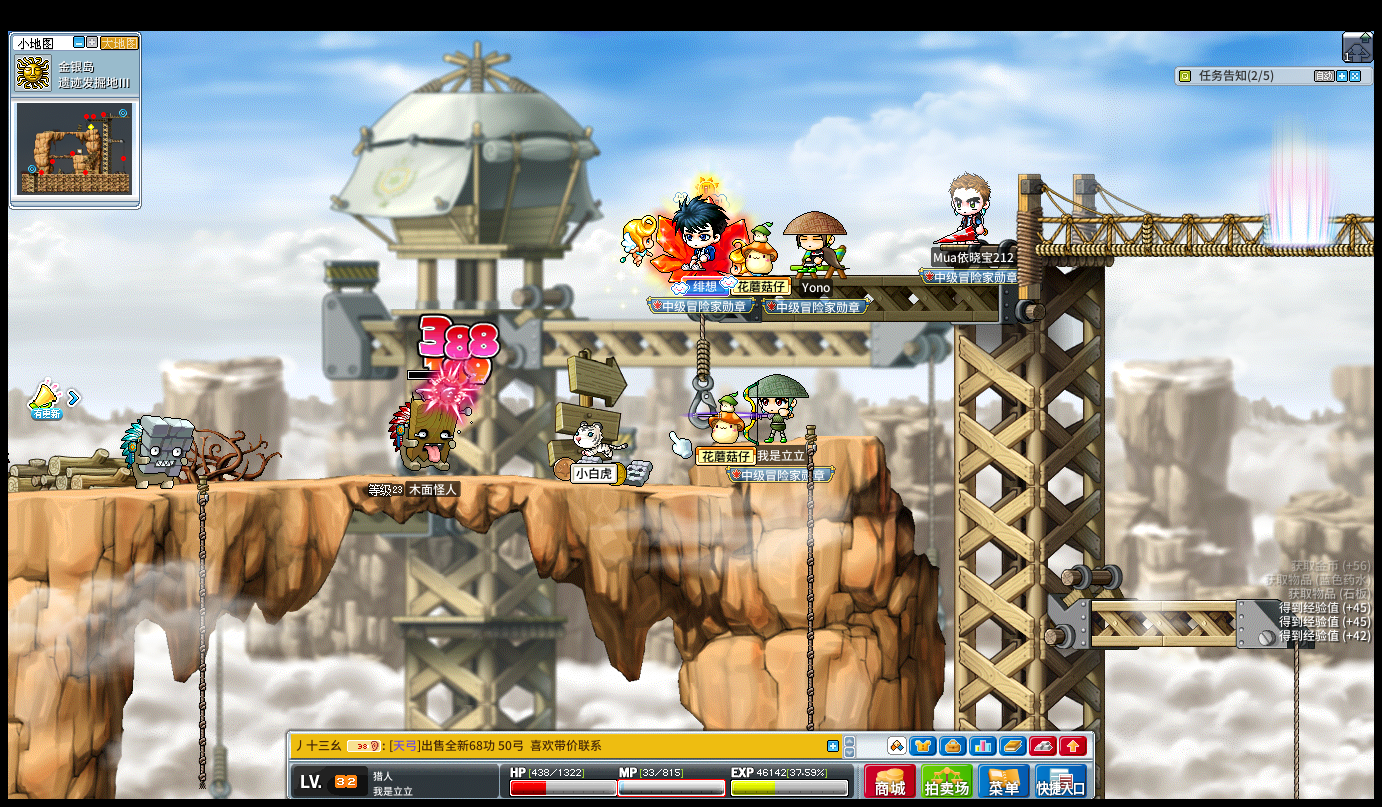floor: (12, 470, 803, 496), (27, 472, 787, 490)
monster: (386, 386, 468, 476), (120, 414, 195, 492)
rope: (192, 469, 208, 803), (802, 434, 817, 727), (1289, 645, 1303, 793)
